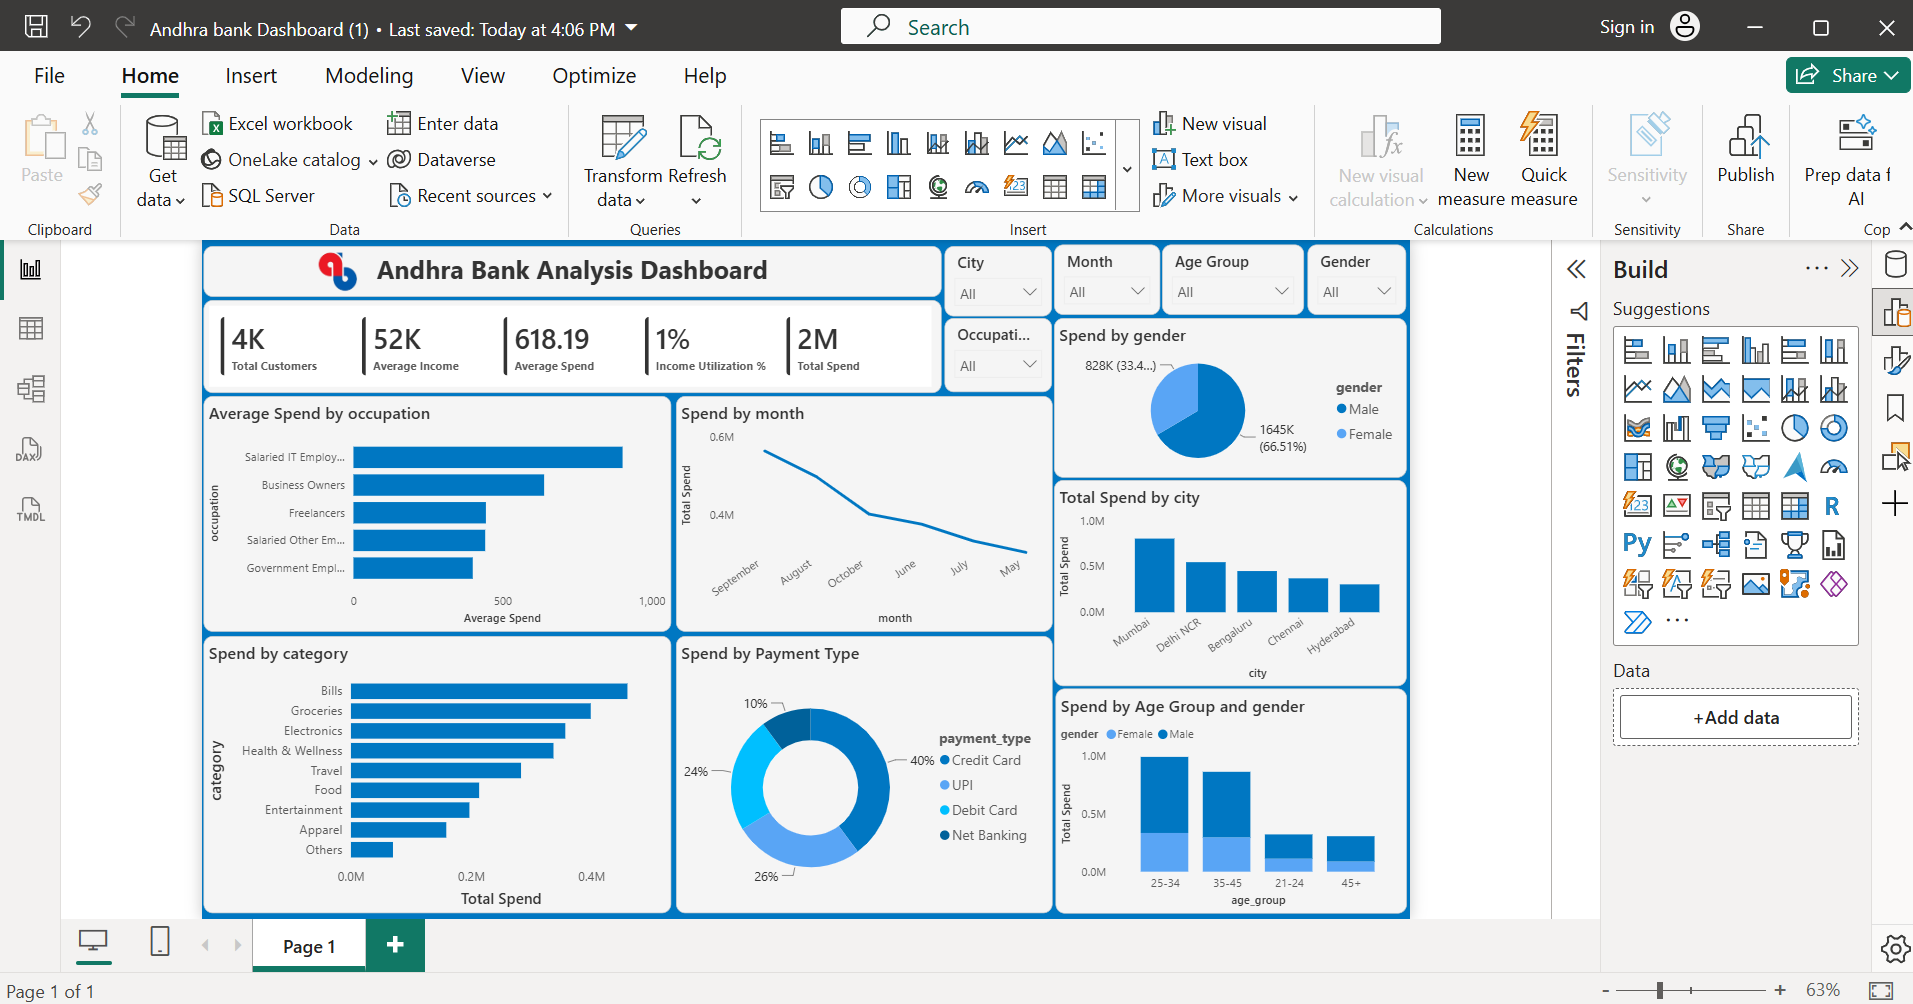

The page's visual inventory and layout, read from the dashboard file:
{"tool":"powerbi","page":{"name":"Page 1","canvas":[1280,720],"ordinal":0},"visuals":[{"type":"cardVisual","fields":{"Data":["dim_customers.Total Customers","dim_customers.Average Income","fact_spends.Average Spend","dim_customers.Income Utilization %","fact_spends.Total Spend"]},"box":[1.4,62.9,782.9,98.6],"z":0},{"type":"donutChart","title":"Spend by Payment Type","fields":{"Category":["fact_spends.payment_type"],"Y":["fact_spends.Total Spend"]},"box":[502.6,419.9,399.2,294.3],"z":1000},{"type":"clusteredBarChart","fields":{"Category":["dim_customers.occupation"],"Y":["fact_spends.Average Spend"]},"box":[1.6,165.4,496.3,249.7],"z":2000},{"type":"pieChart","title":"Spend by gender","fields":{"Category":["dim_customers.gender"],"Y":["fact_spends.Total Spend"]},"box":[902.9,82.9,374.3,169],"z":3000},{"type":"columnChart","title":"Spend by Age Group and gender","fields":{"Category":["dim_customers.age_group"],"Series":["dim_customers.gender"],"Y":["fact_spends.Total Spend"]},"box":[904.3,475.7,372.9,238.6],"z":4000},{"type":"barChart","title":"Spend by category","fields":{"Category":["fact_spends.category"],"Y":["fact_spends.Total Spend"]},"box":[1.6,419.9,496.3,294.3],"z":5000},{"type":"lineChart","title":"Spend by month","fields":{"Category":["fact_spends.month"],"Y":["fact_spends.Total Spend"]},"box":[502.6,165.4,399.2,249.7],"z":6000},{"type":"slicer","fields":{"Values":["dim_customers.city"]},"box":[787,5.6,114.1,74.5],"z":7000},{"type":"slicer","fields":{"Values":["dim_customers.gender"]},"box":[1171.8,5.2,104.8,74.9],"z":8000},{"type":"slicer","fields":{"Values":["dim_customers.age_group"]},"box":[1018.5,5.2,150.9,74.9],"z":9000},{"type":"slicer","fields":{"Values":["dim_customers.occupation"]},"box":[787.1,82.9,114.3,78.6],"z":10000},{"type":"slicer","fields":{"Values":["fact_spends.month"]},"box":[903.3,5.2,112.8,74.9],"z":11000},{"type":"textbox","box":[1.4,5.7,782.9,54.3],"z":12000},{"type":"image","box":[110,5.7,68.6,54.3],"z":13000},{"type":"clusteredColumnChart","fields":{"Category":["dim_customers.city"],"Y":["fact_spends.Total Spend"]},"box":[902.9,254.3,374.3,218.6],"z":14000}]}

Visuals, with their boxes on the page's 1280x720 design canvas (x1, y1, x2, y2). These are canvas units, not pixel positions in the 1913x1004 screenshot, which may show the page scaled, cropped or inside an application window:
cardVisual - dim_customers.Total Customers x dim_customers.Average Income: x1=1 y1=63 x2=784 y2=162
"Spend by Payment Type" donutChart: x1=503 y1=420 x2=902 y2=714
clusteredBarChart - dim_customers.occupation x fact_spends.Average Spend: x1=2 y1=165 x2=498 y2=415
"Spend by gender" pieChart: x1=903 y1=83 x2=1277 y2=252
"Spend by Age Group and gender" columnChart: x1=904 y1=476 x2=1277 y2=714
"Spend by category" barChart: x1=2 y1=420 x2=498 y2=714
"Spend by month" lineChart: x1=503 y1=165 x2=902 y2=415
slicer - dim_customers.city: x1=787 y1=6 x2=901 y2=80
slicer - dim_customers.gender: x1=1172 y1=5 x2=1277 y2=80
slicer - dim_customers.age_group: x1=1018 y1=5 x2=1169 y2=80
slicer - dim_customers.occupation: x1=787 y1=83 x2=901 y2=162
slicer - fact_spends.month: x1=903 y1=5 x2=1016 y2=80
textbox: x1=1 y1=6 x2=784 y2=60
image: x1=110 y1=6 x2=179 y2=60
clusteredColumnChart - dim_customers.city x fact_spends.Total Spend: x1=903 y1=254 x2=1277 y2=473
